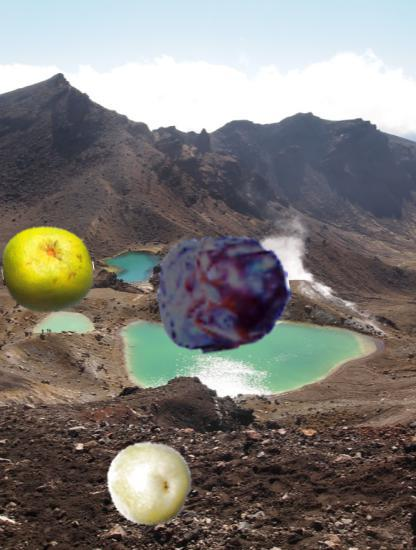Dates: (158, 228, 290, 360)
Maracuja: (106, 440, 194, 528)
Pomelo: (2, 223, 94, 315)
